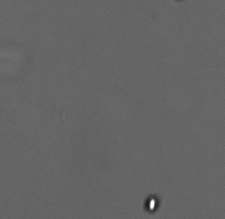Living Cell: (143, 194, 160, 213)
